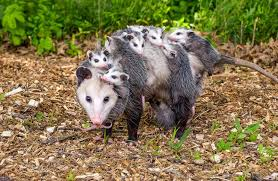opossum: (75, 24, 278, 144)
